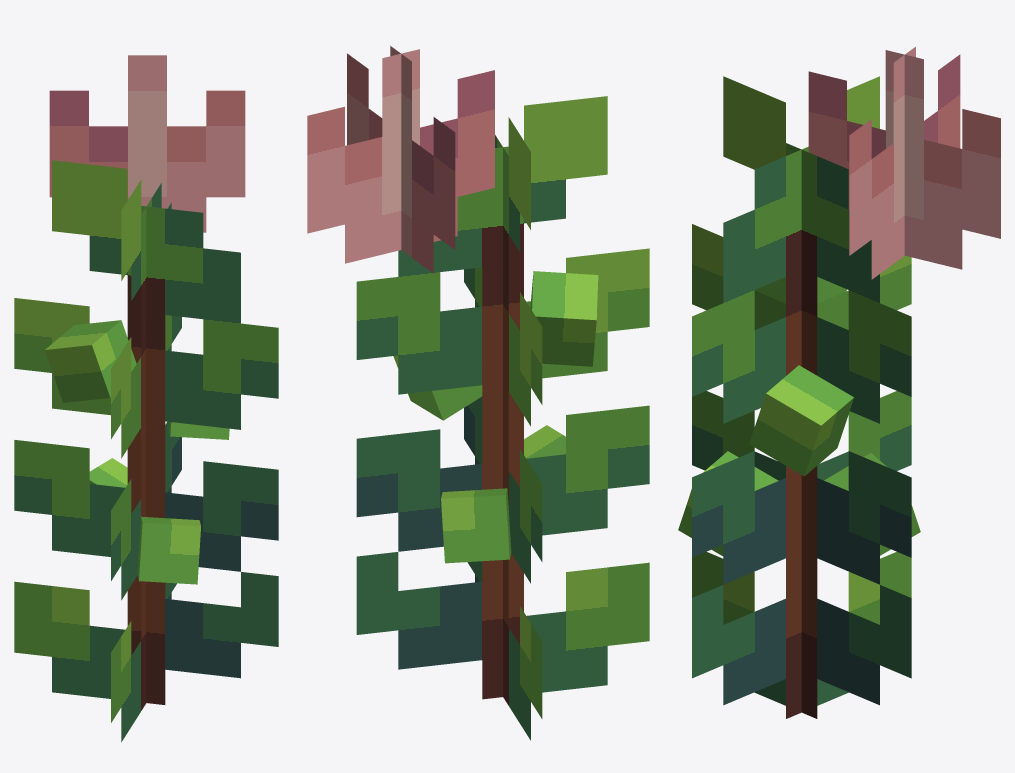
File: cranberry-stage3.gltf
3 renders of one model, left to right at view 1: azimuth 30°, elevation 25°; view 2: azimuth 150°, elevation 25°; view 3: azimuth 270°, elevation 25°, orthographic. The views are drawn at different scales.
Visible parts, largest first — view 1: cube; view 2: cube; view 3: cube.
Boxes of the visible parts, box(x1,y1,x2,y2) form: cube: box(14, 55, 278, 742); cube: box(307, 46, 649, 740); cube: box(678, 46, 1000, 718).
Size of the model in its own units: 0.393 by 1.06 by 0.4545.
Materials: 1 (1 with a texture image).
